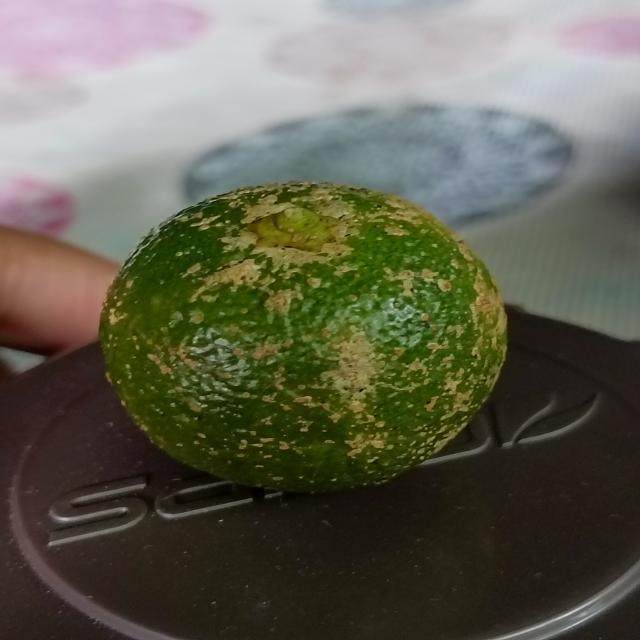scab: (93, 167, 520, 497)
